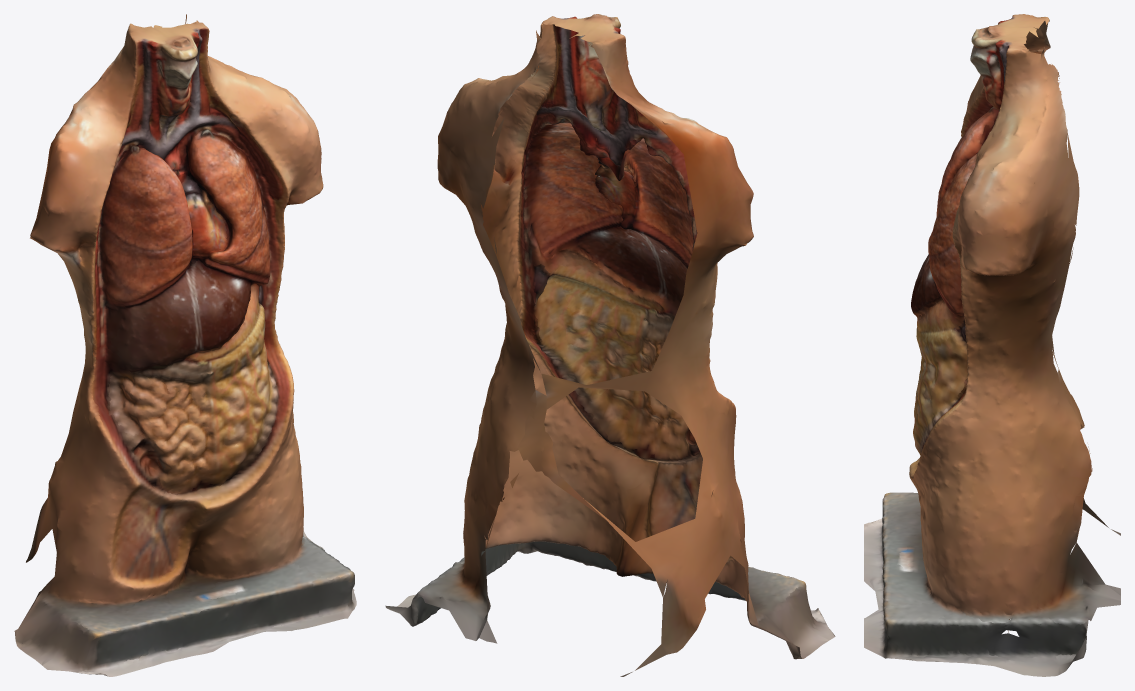
The model's file is anatomical_scan_test.glb.
3 views of the same model, side by side, from view 1: azimuth 30°, elevation 25°; view 2: azimuth 150°, elevation 25°; view 3: azimuth 270°, elevation 25° (orthographic). The views are drawn at different scales.
Visible parts, largest first — view 1: Object_2, Object_3, Object_4; view 2: Object_2, Object_3, Object_4; view 3: Object_3, Object_2, Object_4.
Part boxes in pixels (left/top/right/bottom): Object_2: left=26, top=14, right=356, bottom=676; Object_3: left=14, top=14, right=354, bottom=672; Object_4: left=55, top=20, right=323, bottom=550; Object_2: left=417, top=22, right=835, bottom=676; Object_3: left=412, top=14, right=834, bottom=659; Object_4: left=385, top=16, right=717, bottom=626; Object_3: left=864, top=14, right=1087, bottom=662; Object_2: left=864, top=15, right=1120, bottom=667; Object_4: left=920, top=14, right=1086, bottom=676.
Bounding box in the file's own units: 0.4483 × 0.7225 × 0.2945.
1 material, 1 textured.
